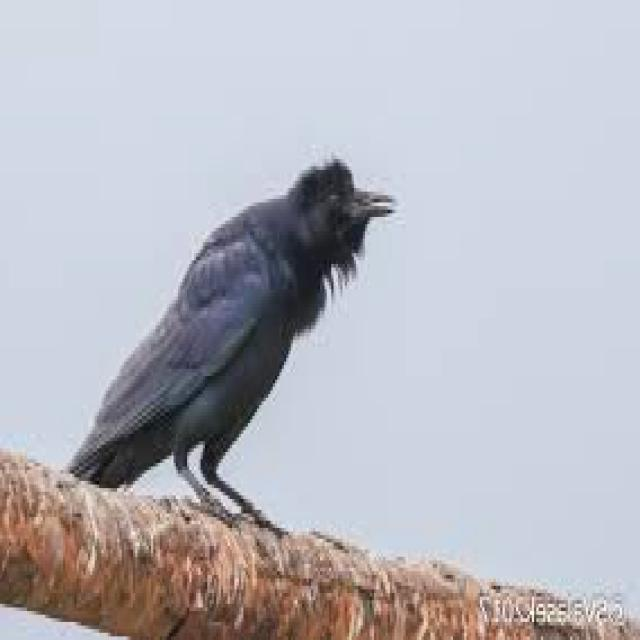crow: (72, 159, 394, 521)
